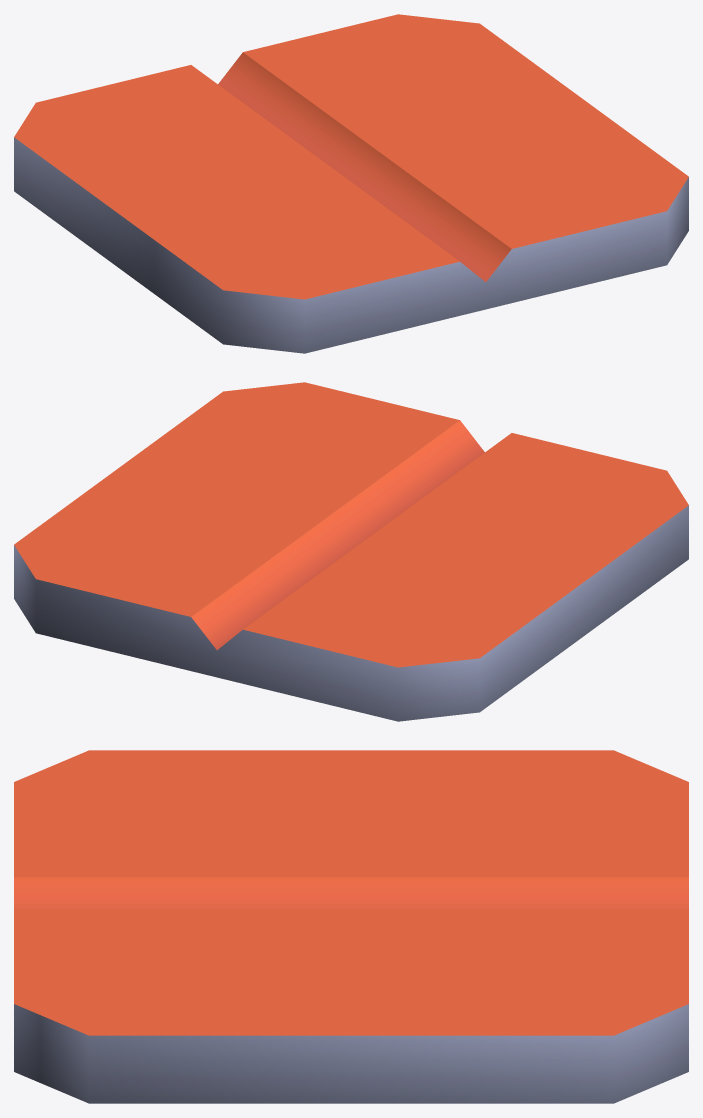
File: debris-plate-a.glb
3 renders of one model, top to bottom at view 1: azimuth 30°, elevation 25°; view 2: azimuth 150°, elevation 25°; view 3: azimuth 270°, elevation 25°, orthographic. The views are drawn at different scales.
Parts seen in each view (by area): view 1: debris-plate-a; view 2: debris-plate-a; view 3: debris-plate-a.
Boxes of the visible parts, bbox=[...] form: debris-plate-a: bbox=[14, 14, 688, 353]; debris-plate-a: bbox=[14, 382, 688, 721]; debris-plate-a: bbox=[14, 750, 688, 1103].
Size of the model in its own units: 0.9 by 0.1 by 0.9.
1 material, 1 textured.
